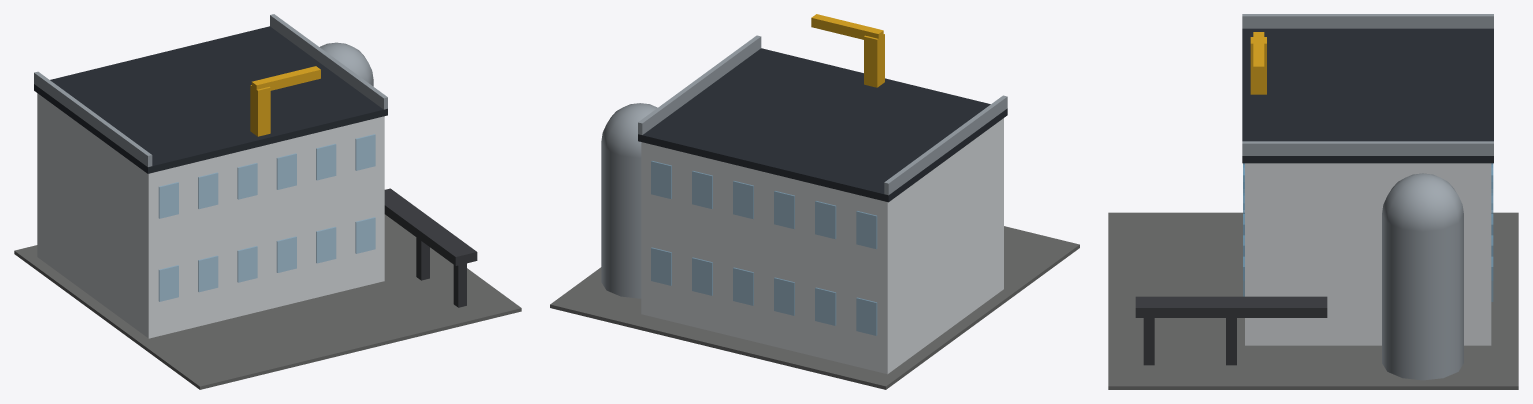
The model's file is bld_special_factory_a08.glb.
3 views of the same model, side by side, from view 1: azimuth 30°, elevation 25°; view 2: azimuth 150°, elevation 25°; view 3: azimuth 270°, elevation 25° (orthographic). The views are drawn at different scales.
Visible parts, largest first — view 1: body, arm; view 2: body, arm; view 3: body, arm.
Part boxes in pixels (x1,y1,x2,y2): body: [14, 14, 521, 389]; arm: [250, 66, 320, 136]; body: [550, 35, 1079, 389]; arm: [811, 14, 884, 87]; body: [1108, 14, 1518, 389]; arm: [1250, 32, 1266, 94].
Size of what is drawn, in the model's own units: 15 by 10.1 by 15.
